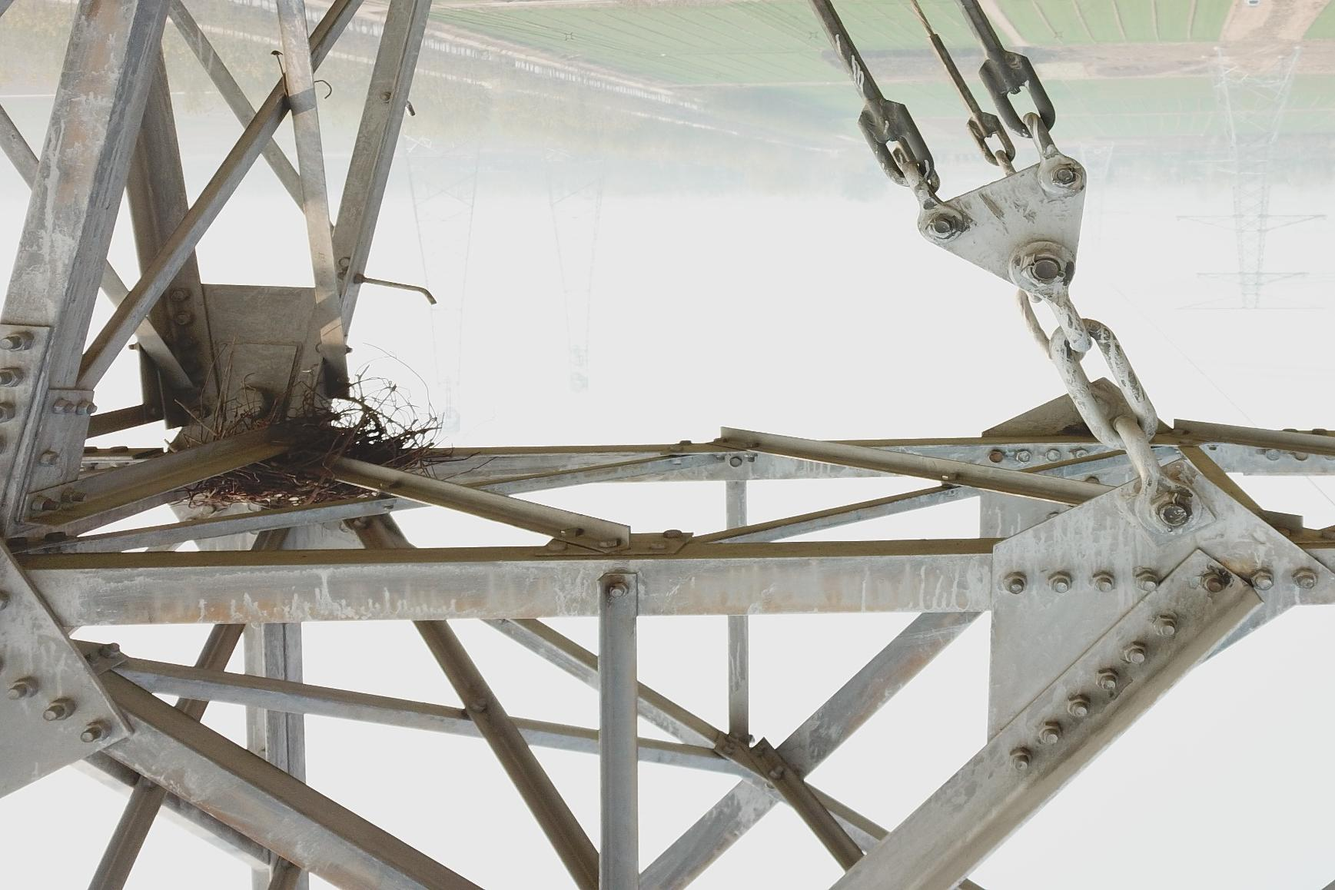nest: (175, 362, 450, 515)
